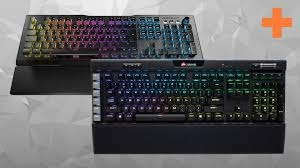keyboard: (93, 62, 289, 131), (16, 12, 222, 68)
